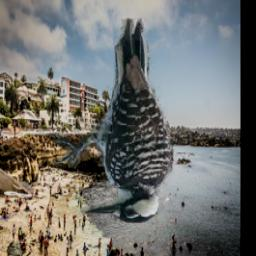Woodpecker: (50, 19, 177, 225)
